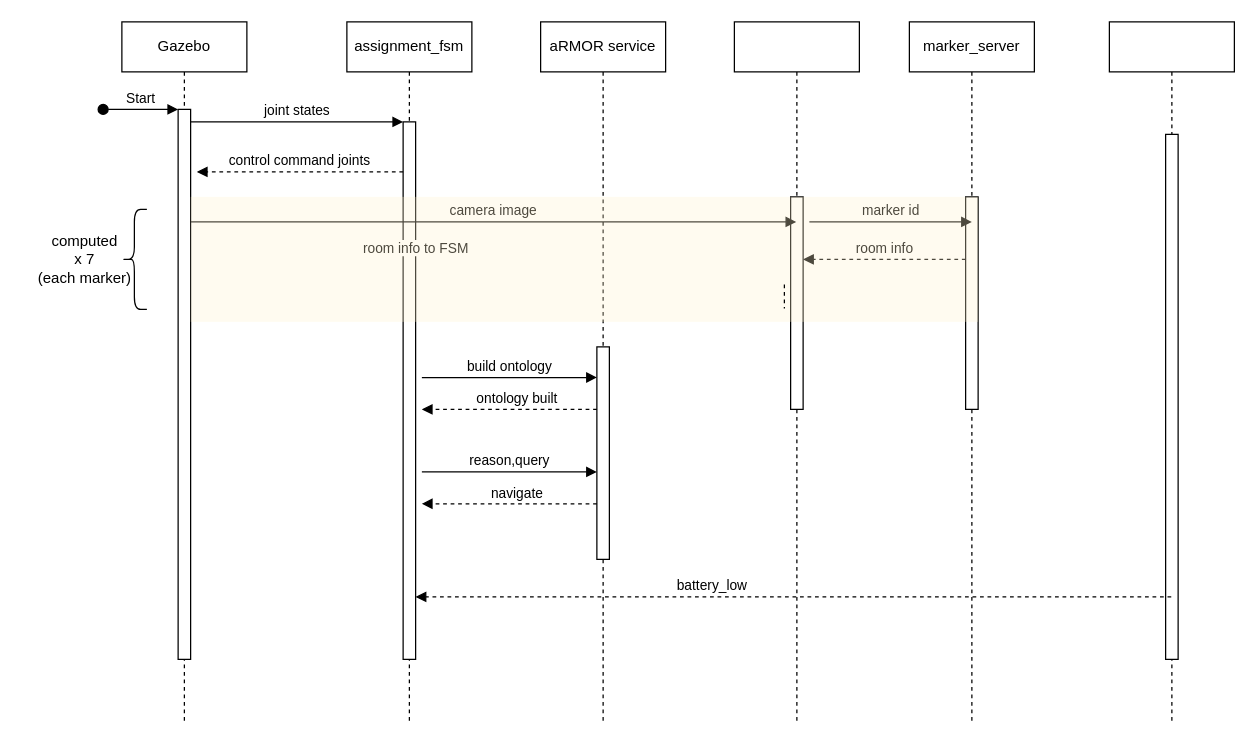
This 1256x744 diagram has some shape labels left out. The shapes that lost their labels are listed below. From the top down, each one's box as (x1, y1, x2, y2) in pixels, then its label:
(733, 21, 859, 722): detection_node
(1108, 21, 1234, 722): battery
